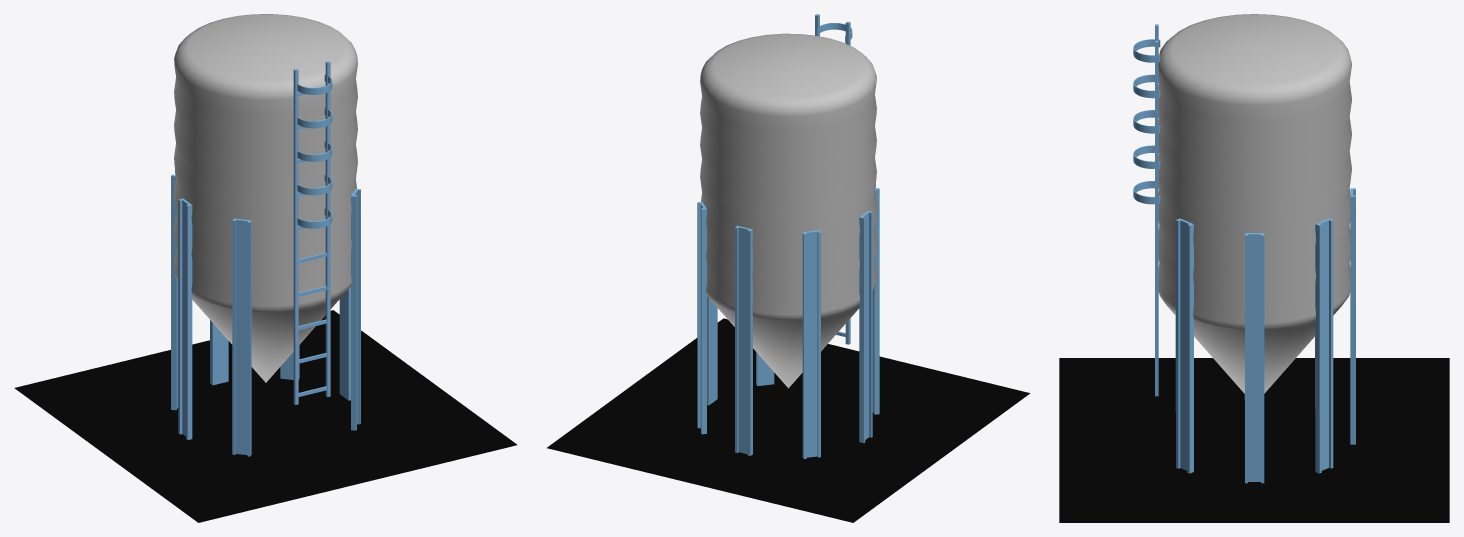
File: Water Silo.fbx
3 views of the same model, side by side, from view 1: azimuth 30°, elevation 25°; view 2: azimuth 150°, elevation 25°; view 3: azimuth 270°, elevation 25° (orthographic). The views are drawn at different scales.
Parts seen in each view (by area): view 1: Plane; view 2: Plane; view 3: Plane.
Part boxes in pixels (<box>): Plane: <box>14,14,517,522</box>; Plane: <box>547,14,1030,522</box>; Plane: <box>1059,14,1449,522</box>.
Size of the model in its own units: 2 by 2 by 2.3.
